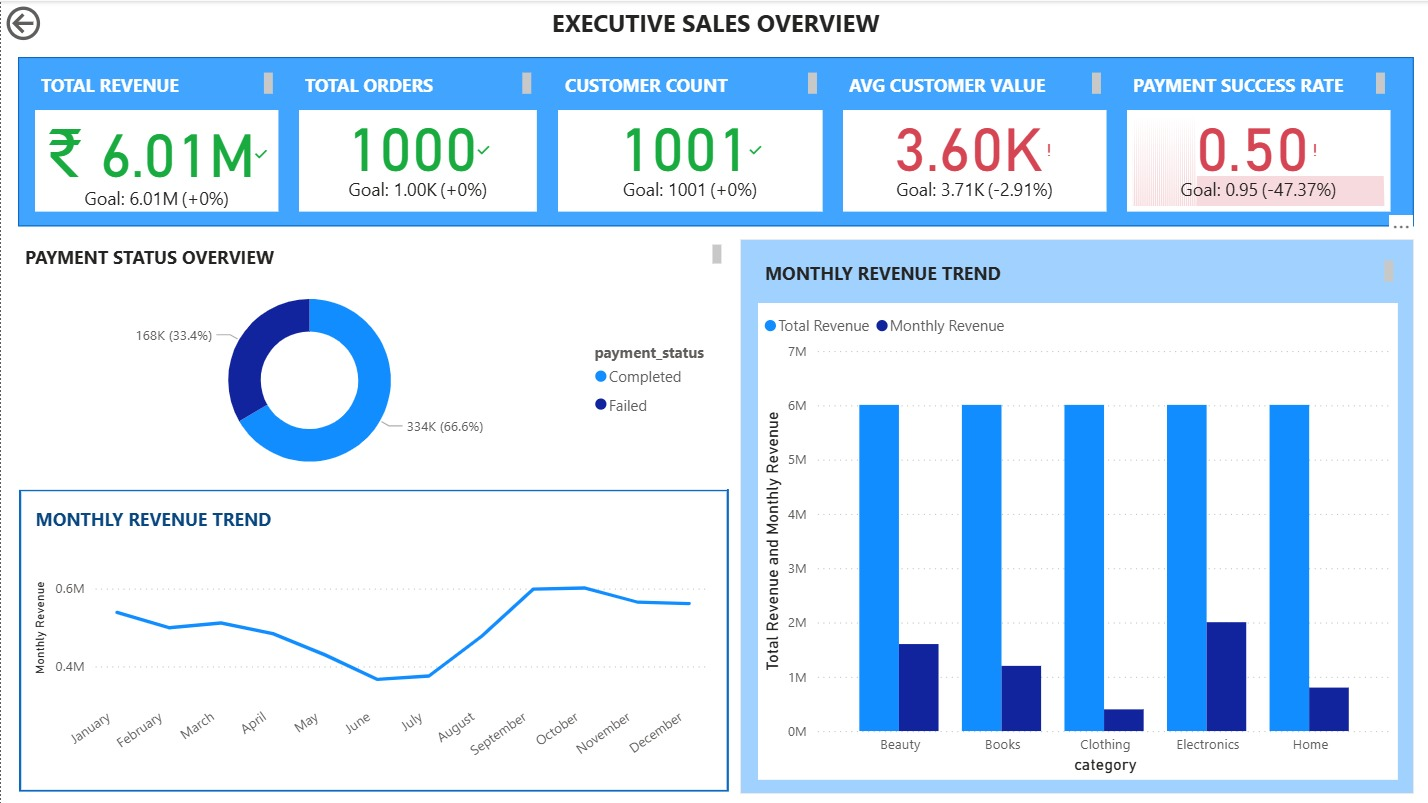

The page's visual inventory and layout, read from the dashboard file:
{"tool":"powerbi","page":{"name":"EXECUTIVE OVERVIEW","canvas":[1280,720],"ordinal":0},"visuals":[{"type":"shape","box":[15,50,1250,151.7],"z":0},{"type":"shape","box":[661.7,213.3,603.3,496.7],"z":1000},{"type":"shape","box":[15.7,437.1,635.7,271.4],"z":2000},{"type":"textbox","box":[0,0,1280,40.9],"z":3000},{"type":"kpi","fields":{"Indicator":["Customer_Risk.Total Revenue"],"TrendLine":["orders.order_date"],"Goal":["Customer_Risk.Previous Month Revenue"]},"box":[30,98,218,91],"z":4000},{"type":"lineChart","fields":{"Category":["orders.order_date.Variation.Date Hierarchy.Month"],"Y":["Customer_Risk.Monthly Revenue"]},"box":[24.3,477.1,615.7,221.4],"z":5000},{"type":"donutChart","fields":{"Y":["Sum(payments.payment_id)"],"Category":["payments.payment_status"]},"box":[15.7,241.4,634.3,195.7],"z":6000},{"type":"clusteredColumnChart","fields":{"Category":["products.category"],"Y":["Customer_Risk.Total Revenue","Customer_Risk.Monthly Revenue"]},"box":[678.3,270,573.3,426.7],"z":7000},{"type":"textbox","box":[30,59,218,30],"z":8000},{"type":"kpi","fields":{"Indicator":["Customer_Risk.Total Orders"],"Goal":["Customer_Risk.Previous Month Orders"],"TrendLine":["orders.order_date"]},"box":[266.9,98,213,91],"z":9000},{"type":"kpi","fields":{"Indicator":["Customer_Risk.Customer Count"],"TrendLine":["orders.order_date"],"Goal":["Customer_Risk.Previous Month Customers"]},"box":[498.7,97.7,236.7,91.1],"z":10000},{"type":"actionButton","box":[0,0,100,40],"z":11000},{"type":"textbox","box":[267.1,59,213,30],"z":12000},{"type":"textbox","box":[499.3,58.9,235.6,30],"z":13000},{"type":"kpi","fields":{"TrendLine":["orders.order_date"],"Indicator":["Customer_Risk.Avg Customer Value"],"Goal":["Customer_Risk.Avg Customer Value Target"]},"box":[754.2,97.7,235.6,91.1],"z":14000},{"type":"textbox","box":[754,58.9,235.6,30],"z":15000},{"type":"kpi","fields":{"TrendLine":["orders.order_date"],"Indicator":["Customer_Risk.Payment Success Rate"],"Goal":["Customer_Risk.Payment Success Target"]},"box":[1008.7,97.7,235.6,91.1],"z":16000},{"type":"textbox","box":[1008.7,58.9,235.6,30],"z":17000},{"type":"textbox","box":[15.7,212.9,634.3,28.6],"z":18000},{"type":"textbox","box":[26,448,618,34],"z":19000},{"type":"textbox","box":[678.6,227.1,572.9,30],"z":20000}]}

Visuals, with their boxes in screenshot pixels (x1, y1, x2, y2), scaled from the page's 1280x720 canvas onto the 1428x803 screenshot:
shape: l=17, t=56, r=1411, b=225
shape: l=738, t=238, r=1411, b=792
shape: l=18, t=487, r=727, b=790
textbox: l=0, t=0, r=1427, b=46
kpi - Customer_Risk.Total Revenue x orders.order_date: l=33, t=109, r=277, b=211
lineChart - orders.order_date.Variation.Date Hierarchy.Month x Customer_Risk.Monthly Revenue: l=27, t=532, r=714, b=779
donutChart - Sum(payments.payment_id) x payments.payment_status: l=18, t=269, r=725, b=487
clusteredColumnChart - products.category x Customer_Risk.Total Revenue: l=757, t=301, r=1396, b=777
textbox: l=33, t=66, r=277, b=99
kpi - Customer_Risk.Total Orders x Customer_Risk.Previous Month Orders: l=298, t=109, r=535, b=211
kpi - Customer_Risk.Customer Count x orders.order_date: l=556, t=109, r=820, b=211
actionButton: l=0, t=0, r=112, b=45
textbox: l=298, t=66, r=536, b=99
textbox: l=557, t=66, r=820, b=99
kpi - orders.order_date x Customer_Risk.Avg Customer Value: l=841, t=109, r=1104, b=211
textbox: l=841, t=66, r=1104, b=99
kpi - orders.order_date x Customer_Risk.Payment Success Rate: l=1125, t=109, r=1388, b=211
textbox: l=1125, t=66, r=1388, b=99
textbox: l=18, t=237, r=725, b=269
textbox: l=29, t=500, r=718, b=538
textbox: l=757, t=253, r=1396, b=287
